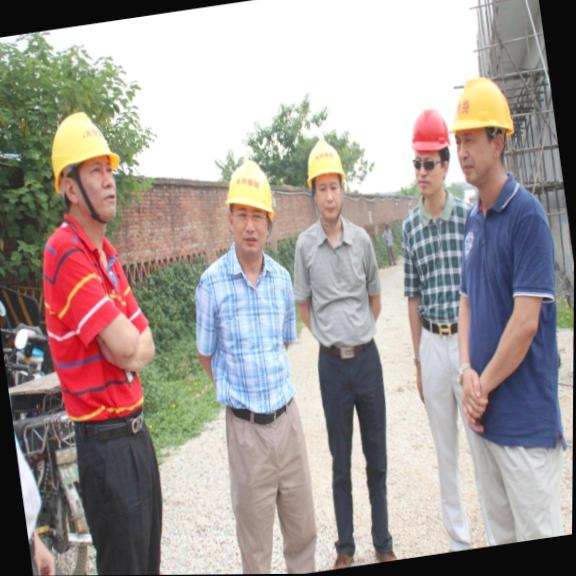no_safety_vest: (436, 168, 575, 440), (28, 217, 165, 435), (187, 253, 314, 432), (288, 214, 392, 361), (393, 191, 492, 341)
